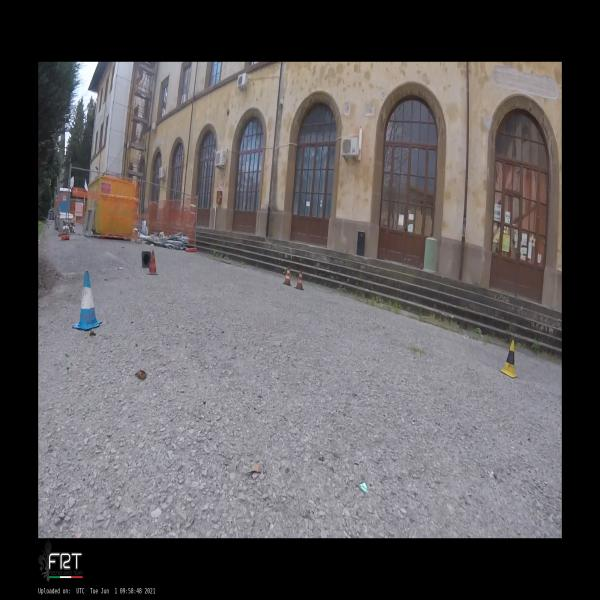blue_cone: (73, 271, 102, 330)
large_orange_cone: (294, 269, 304, 290), (282, 267, 292, 286)
unknown_cone: (146, 250, 159, 274), (141, 252, 151, 268)
yellow_cone: (500, 340, 518, 378)
